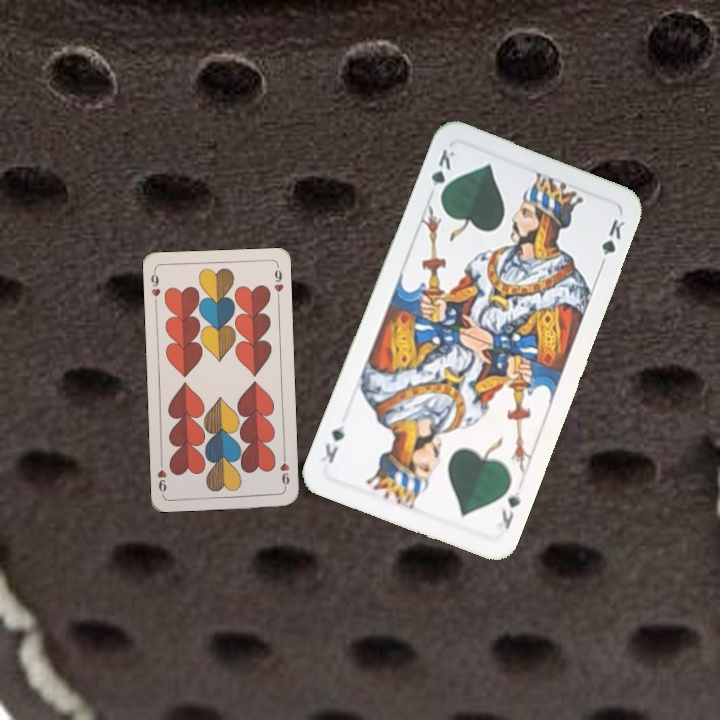GK: (427, 145, 458, 203), (496, 487, 523, 532)
H9: (147, 267, 163, 307), (276, 451, 292, 491)
